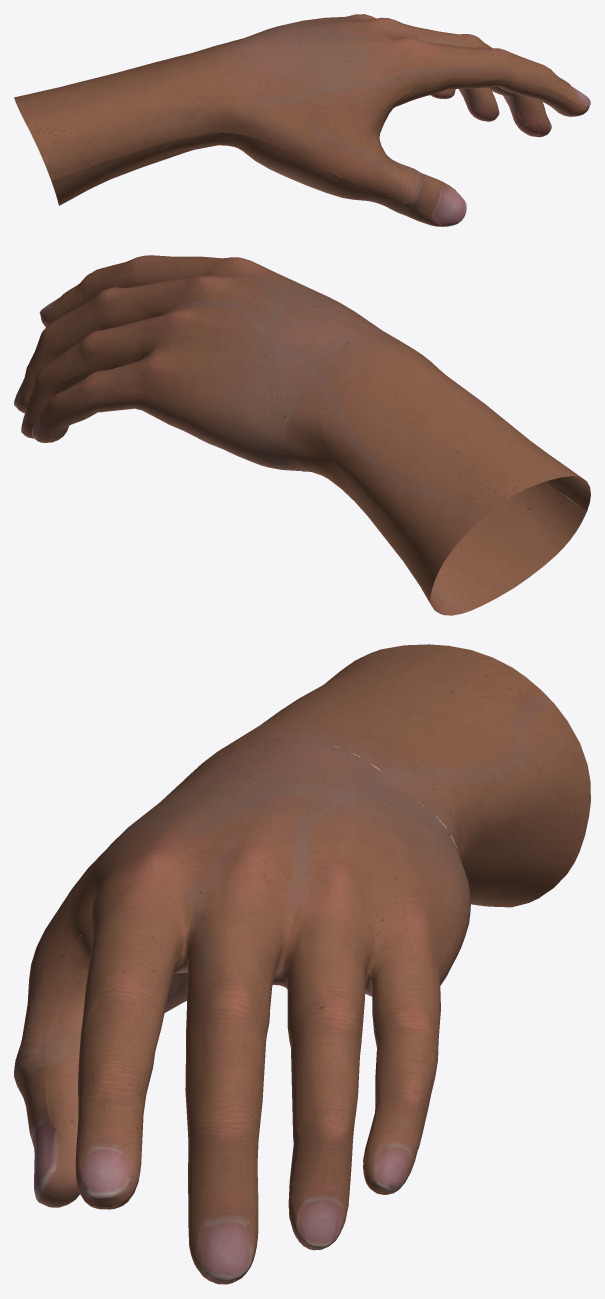
The model's file is hand.glb.
3 views of the same model, one above another, from view 1: azimuth 30°, elevation 25°; view 2: azimuth 150°, elevation 25°; view 3: azimuth 270°, elevation 25° (orthographic). The views are drawn at different scales.
Parts seen in each view (by area): view 1: Hands_Low:Group52896; view 2: Hands_Low:Group52896; view 3: Hands_Low:Group52896.
Boxes of the visible parts, x1,y1,x2,y2 form: Hands_Low:Group52896: (14, 14, 590, 226); Hands_Low:Group52896: (14, 255, 590, 615); Hands_Low:Group52896: (14, 644, 590, 1284).
Size of the model in its own units: 2.2 by 0.744 by 1.14.
Materials: 1 (1 with a texture image).
